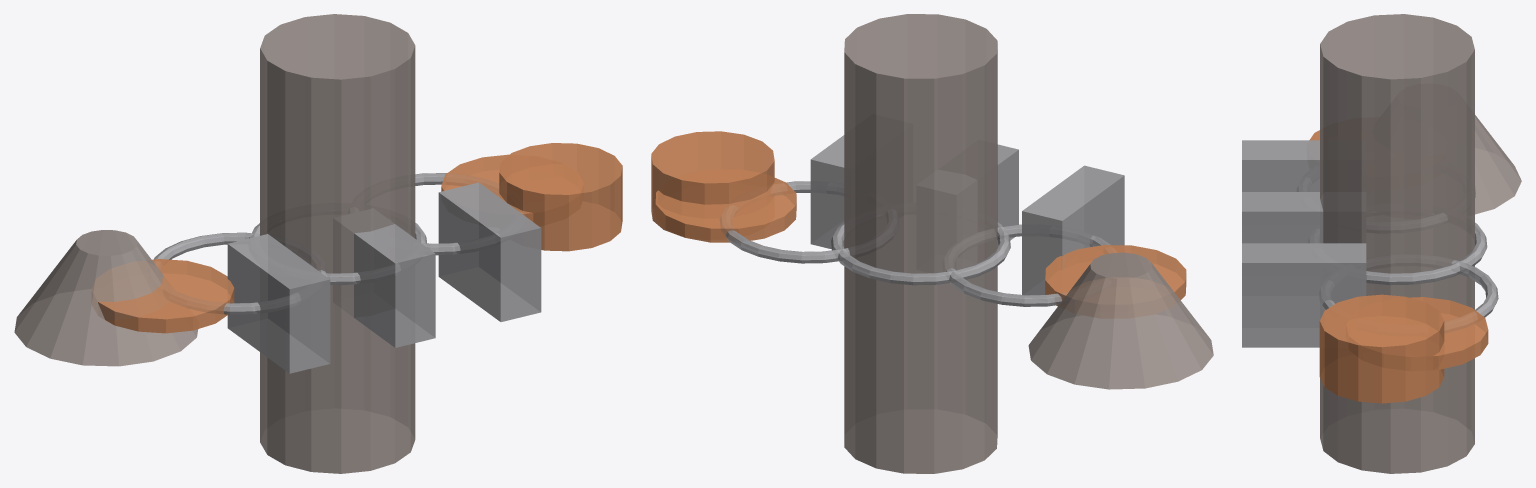
Rendered from roasting_kiln.glb.
3 renders of one model, left to right at view 1: azimuth 30°, elevation 25°; view 2: azimuth 150°, elevation 25°; view 3: azimuth 270°, elevation 25°, orthographic.
Parts seen in each view (by area): view 1: KilnDrum, ExhaustHood, Cradle_4, Cradle_0, Cradle_-4, BurnerHousing, Lining_-7, Lining_7, RidingRing_-4, RidingRing_4, RidingRing_0; view 2: KilnDrum, ExhaustHood, BurnerHousing, Lining_7, Cradle_-4, Cradle_0, Lining_-7, RidingRing_4, Cradle_4, RidingRing_-4, RidingRing_0; view 3: KilnDrum, BurnerHousing, Cradle_4, Lining_7, Cradle_0, Cradle_-4, ExhaustHood, RidingRing_4, RidingRing_0, RidingRing_-4.
Boxes of the visible parts, <box> form: KilnDrum: <box>260,14,415,473</box>; ExhaustHood: <box>14,230,198,366</box>; Cradle_4: <box>438,182,541,321</box>; Cradle_0: <box>333,209,435,347</box>; Cradle_-4: <box>227,234,330,373</box>; BurnerHousing: <box>499,143,622,251</box>; Lining_-7: <box>92,259,234,333</box>; Lining_7: <box>441,154,583,225</box>; RidingRing_-4: <box>153,232,326,314</box>; RidingRing_4: <box>348,173,524,255</box>; RidingRing_0: <box>249,210,426,284</box>; KilnDrum: <box>844,14,997,473</box>; ExhaustHood: <box>1028,252,1213,389</box>; BurnerHousing: <box>651,131,774,236</box>; Lining_7: <box>655,170,796,242</box>; Cradle_-4: <box>1022,165,1124,295</box>; Cradle_0: <box>917,144,1018,272</box>; Lining_-7: <box>1045,245,1186,317</box>; RidingRing_4: <box>720,181,898,263</box>; Cradle_4: <box>810,135,844,249</box>; RidingRing_-4: <box>943,224,1116,306</box>; RidingRing_0: <box>831,215,1010,285</box>; KilnDrum: <box>1320,14,1474,473</box>; BurnerHousing: <box>1319,294,1444,403</box>; Cradle_4: <box>1242,243,1366,347</box>; Lining_7: <box>1346,297,1488,370</box>; Cradle_0: <box>1242,192,1365,243</box>; Cradle_-4: <box>1242,140,1319,191</box>; ExhaustHood: <box>1475,115,1521,214</box>; RidingRing_4: <box>1319,255,1498,332</box>; RidingRing_0: <box>1308,212,1487,285</box>; RidingRing_-4: <box>1297,177,1475,232</box>.
Bounding box in the file's own units: 21 × 14 × 9.
